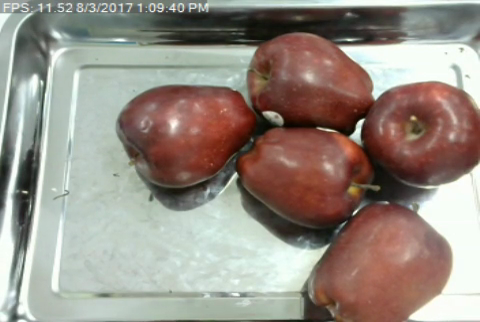Apple: (303, 197, 455, 322), (114, 80, 263, 195), (232, 122, 379, 232), (356, 79, 479, 190), (244, 28, 376, 131)
